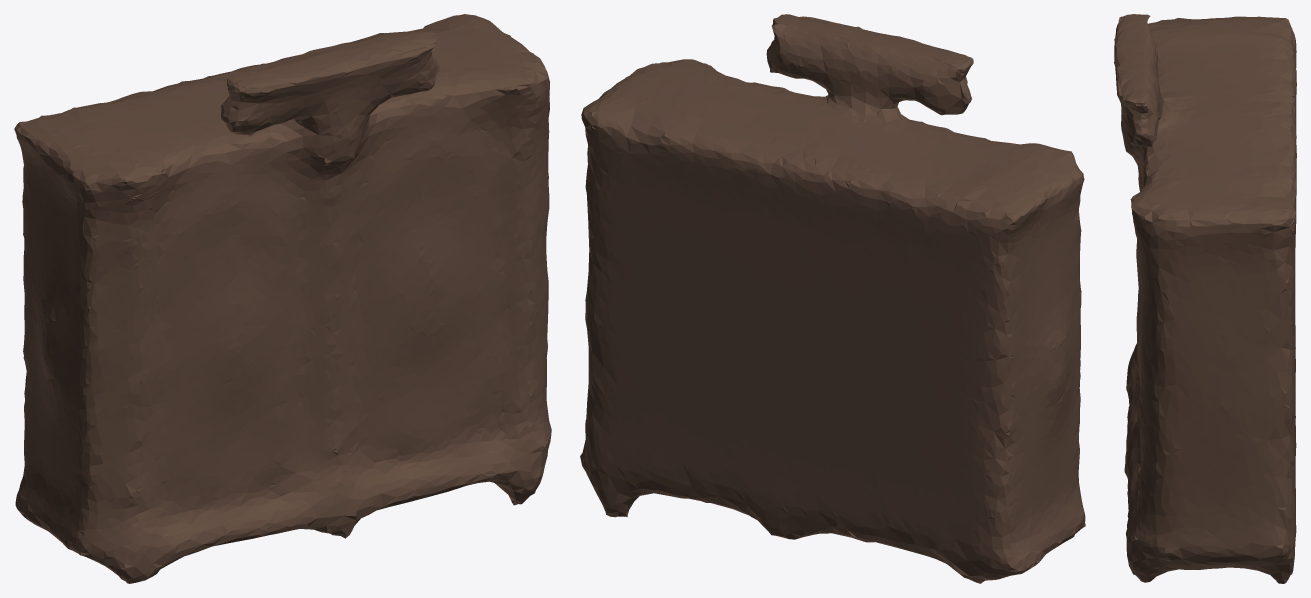
The model's file is triposg_v7.glb.
3 renders of one model, left to right at view 1: azimuth 30°, elevation 25°; view 2: azimuth 150°, elevation 25°; view 3: azimuth 270°, elevation 25°, orthographic. The views are drawn at different scales.
Parts seen in each view (by area): view 1: world; view 2: world; view 3: world.
Boxes of the visible parts, <box> form: world: <box>14,14,551,583</box>; world: <box>580,14,1085,583</box>; world: <box>1114,14,1296,583</box>.
Size of the model in its own units: 1.83 by 1.81 by 0.6779.
